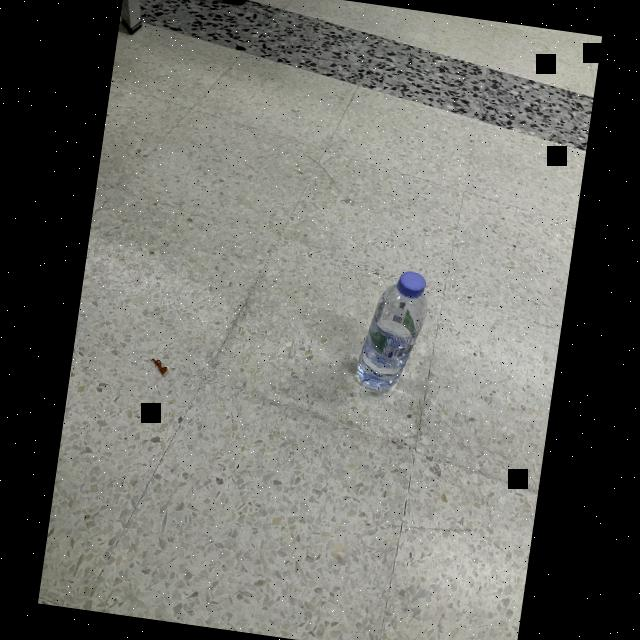plastic_bottle: (352, 264, 434, 400)
